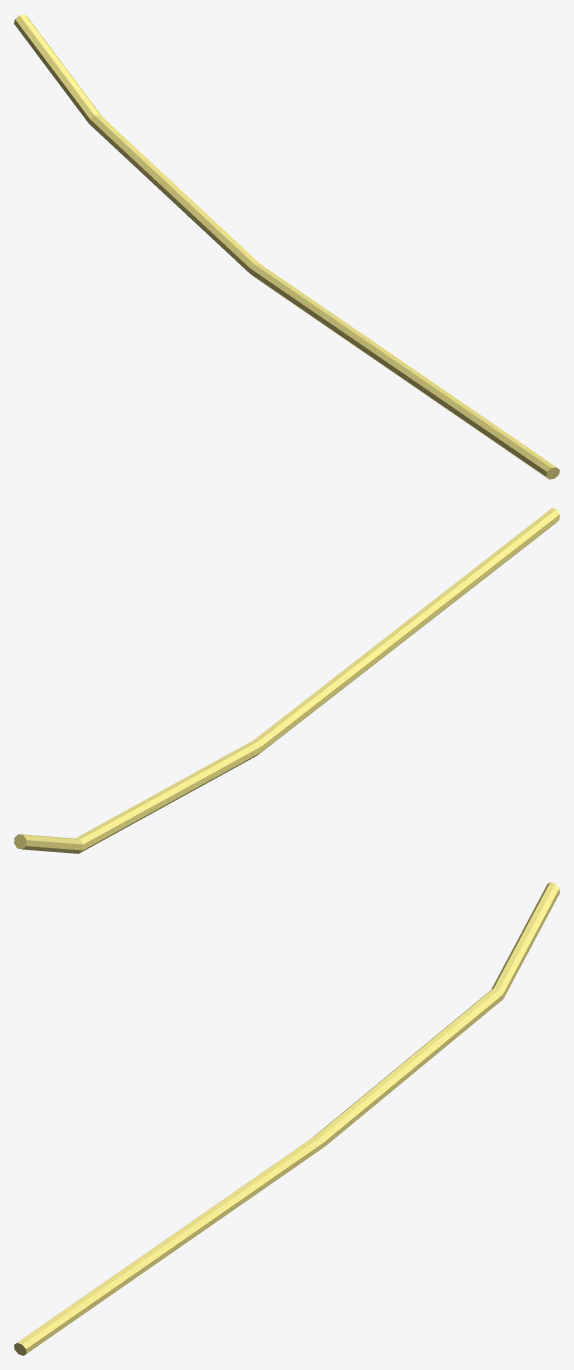
The model's file is Roap for boat 1.002.fbx.
3 views of the same model, one above another, from view 1: azimuth 30°, elevation 25°; view 2: azimuth 150°, elevation 25°; view 3: azimuth 330°, elevation 25° (orthographic).
Visible parts, largest first — view 1: Roap for boat 1.002; view 2: Roap for boat 1.002; view 3: Roap for boat 1.002.
Part boxes in pixels (box(x1,y1,x2,y2)): Roap for boat 1.002: box(14, 14, 559, 479); Roap for boat 1.002: box(14, 508, 559, 853); Roap for boat 1.002: box(14, 882, 559, 1355).
Size of the model in its own units: 7.61 by 30 by 315.
